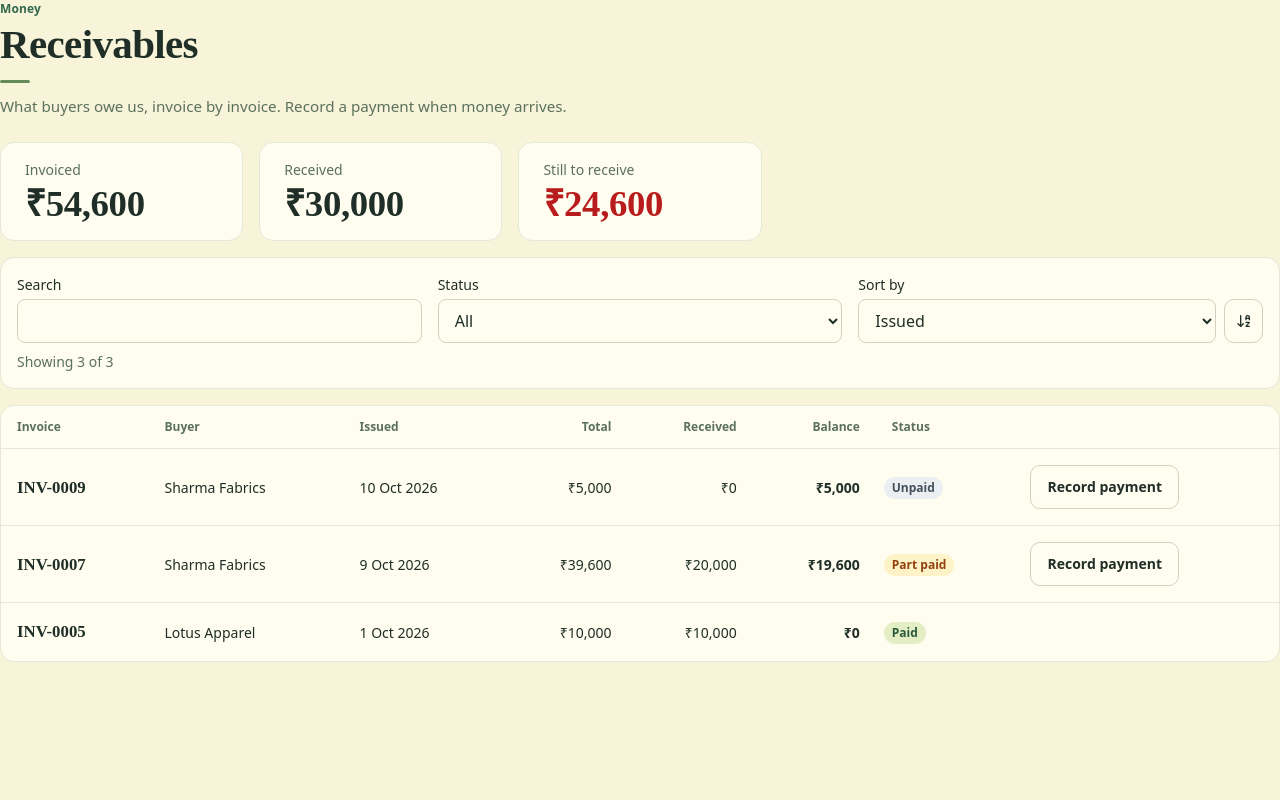
Test case: Receivables › shows the server's reason in the dialog when the payment is refused
Click the button named "record payment for INV-0007".
click(1105, 564)  # box [1030, 542, 1179, 586]
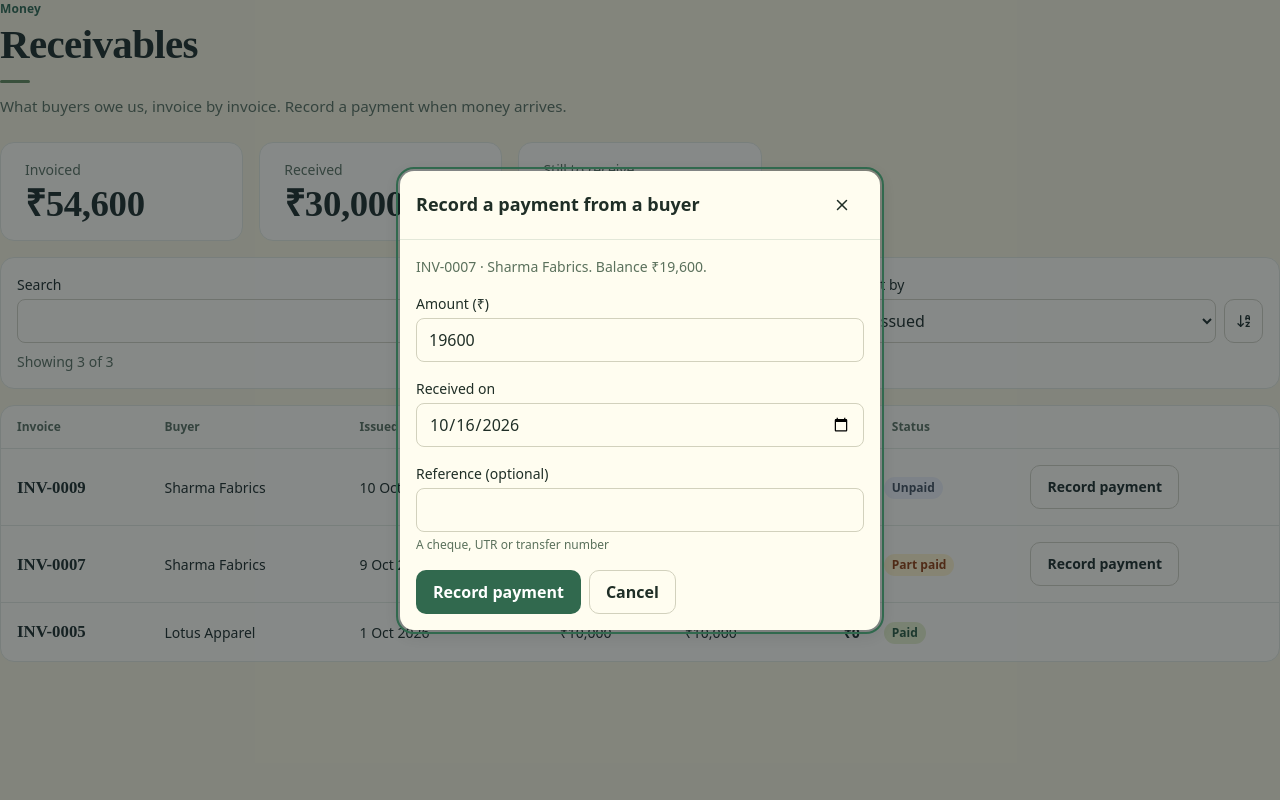
Click the button "Record payment".
click(498, 592)  # box [416, 570, 581, 614]
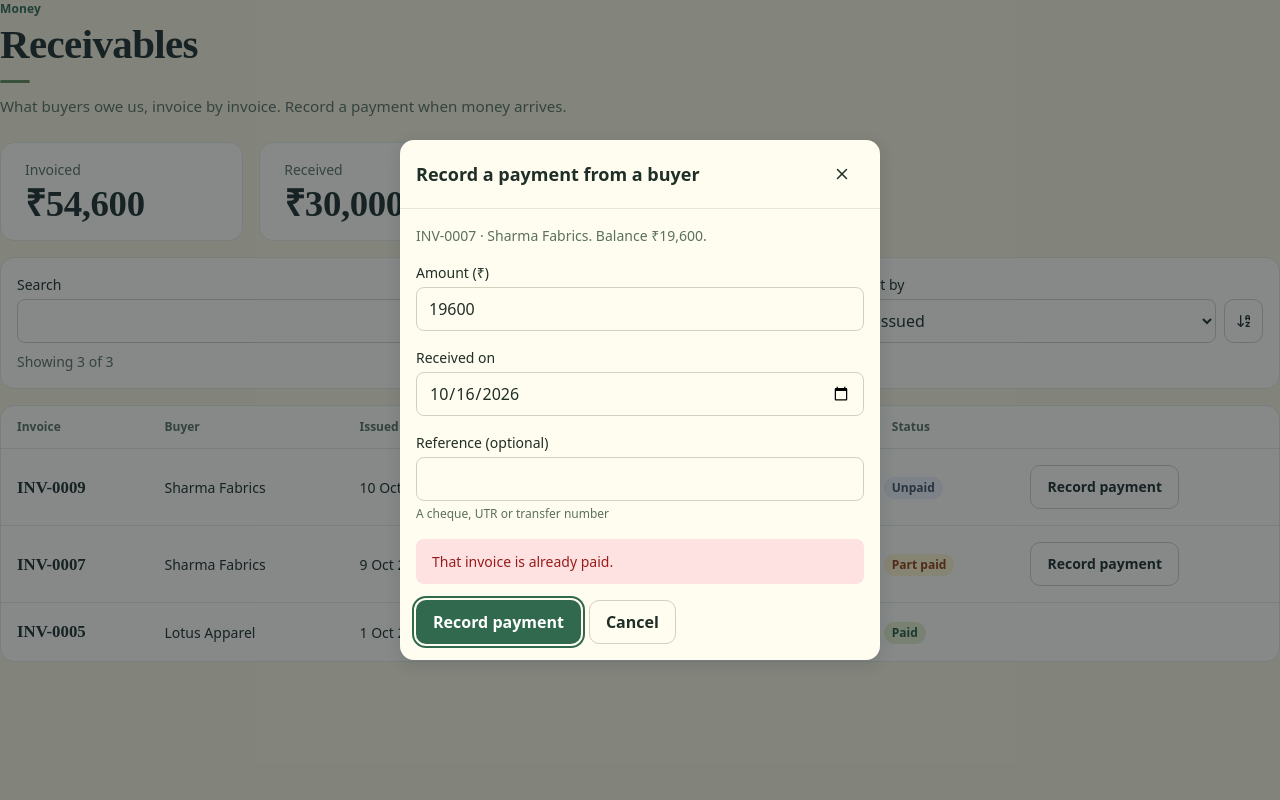
Result: the dialog is shown at [400, 140, 880, 660]
Result: the message reads "That invoice is already paid." at [432, 552, 613, 571]
